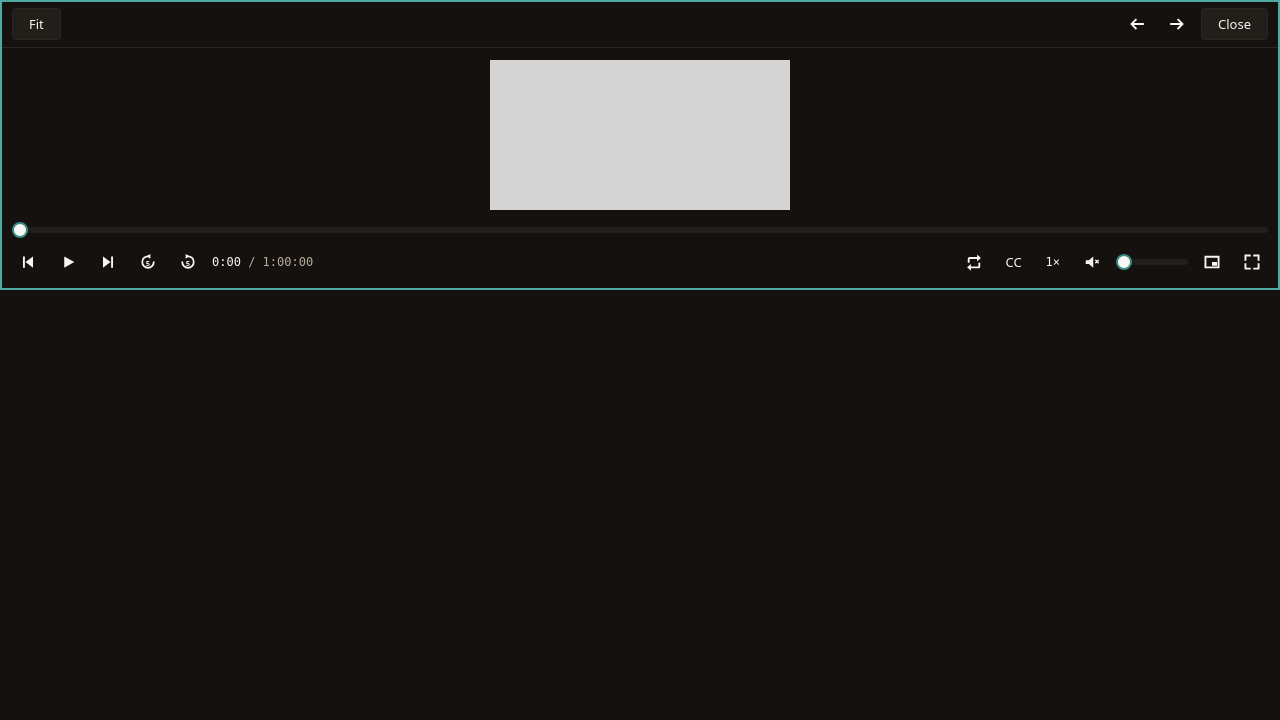
Test case: what the native bar withholds › sets the playback rate on the element, and reads it back from there
Step 1. Click the button named "Playback speed" → (1053, 262), box [1038,246,1068,278]
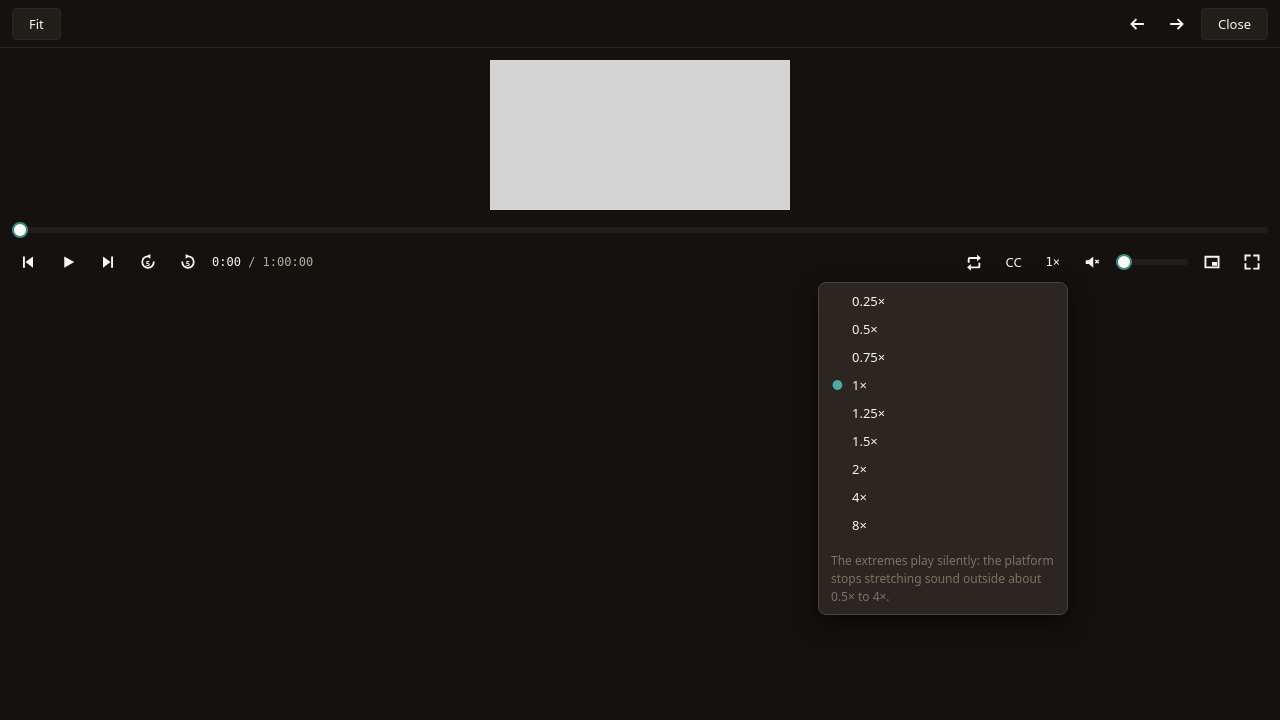
Step 2. Click the menu item "2×" → (859, 469), box [852,460,867,478]
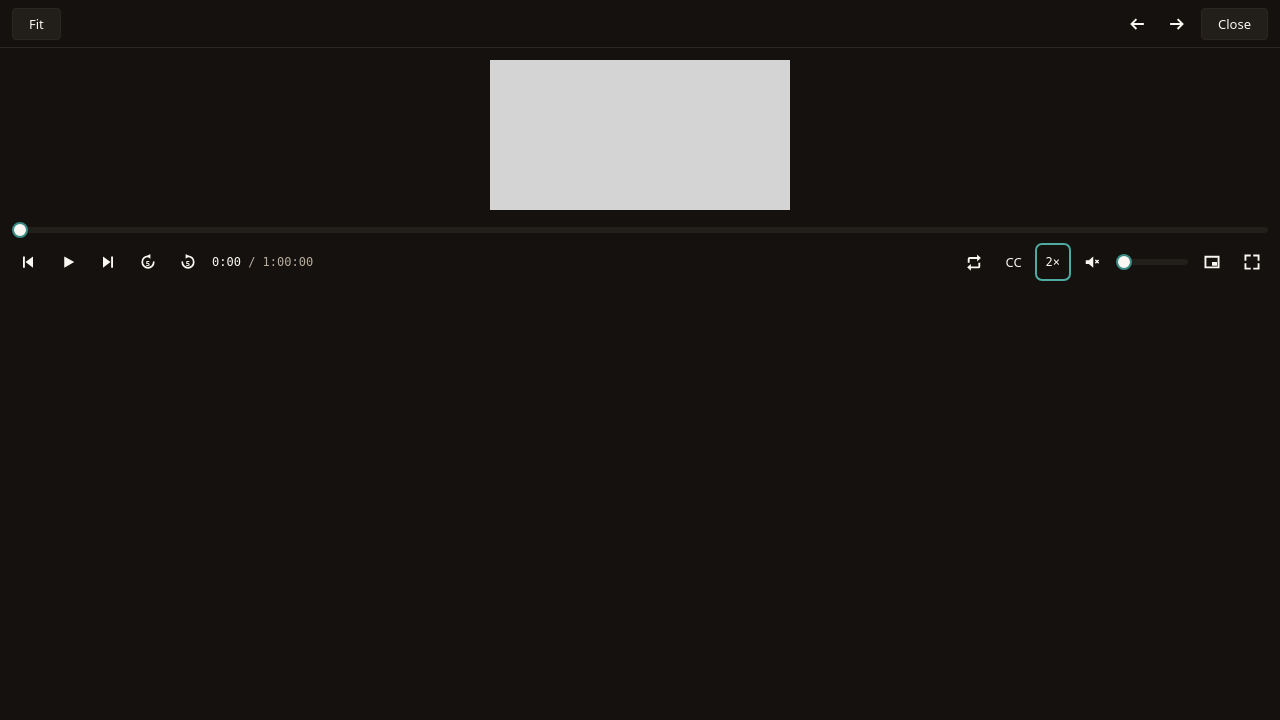
Now the button named "Playback speed" reads "2×", box [1038,246,1068,278]
